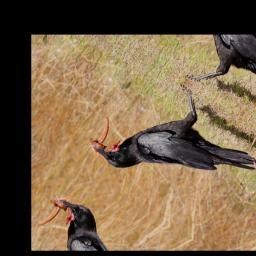Crow: (75, 57, 256, 230)
